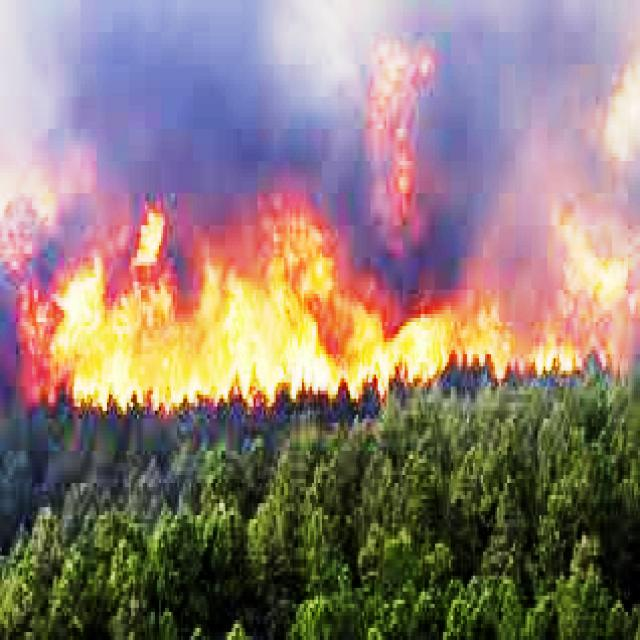api: (72, 274, 347, 385), (16, 303, 64, 406), (463, 300, 512, 371), (277, 213, 338, 269), (348, 310, 389, 383), (393, 326, 453, 375), (582, 273, 634, 308), (135, 215, 165, 272), (528, 350, 587, 372)
asap: (12, 6, 640, 202), (344, 203, 551, 296), (12, 187, 75, 302), (557, 187, 639, 272), (70, 191, 133, 270)
